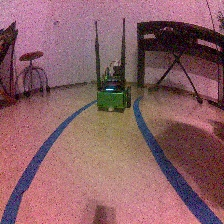rob: (95, 64, 132, 112)
